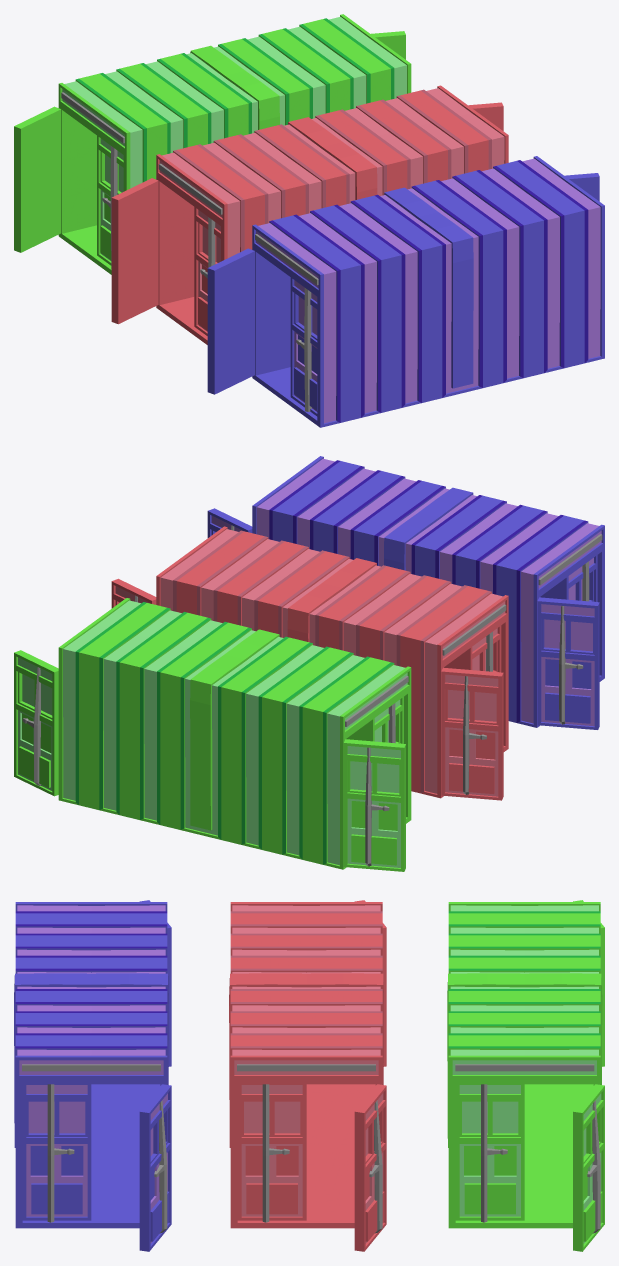
File: ContainersOpen.fbx
The picture shows the model from 3 angles, top to bottom: view 1: azimuth 30°, elevation 25°; view 2: azimuth 150°, elevation 25°; view 3: azimuth 270°, elevation 25°; orthographic projection. The views are drawn at different scales.
Visible parts, largest first — view 1: CBO, SGO, CRO; view 2: SGO, CRO, CBO; view 3: CRO, CBO, SGO.
Boxes of the visible parts, box(x1,y1,x2,y2) form: CBO: box(207, 156, 604, 427); SGO: box(14, 14, 411, 274); CRO: box(111, 85, 508, 344); SGO: box(14, 598, 411, 871); CRO: box(111, 526, 508, 800); CBO: box(207, 456, 604, 729); CRO: box(229, 900, 386, 1251); CBO: box(14, 900, 171, 1251); SGO: box(447, 900, 604, 1251).
Size of the model in its own units: 1151 by 433 by 1349.
